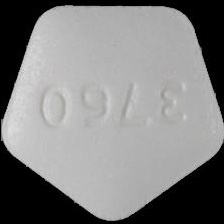55154-6158: (0, 0, 224, 224)
